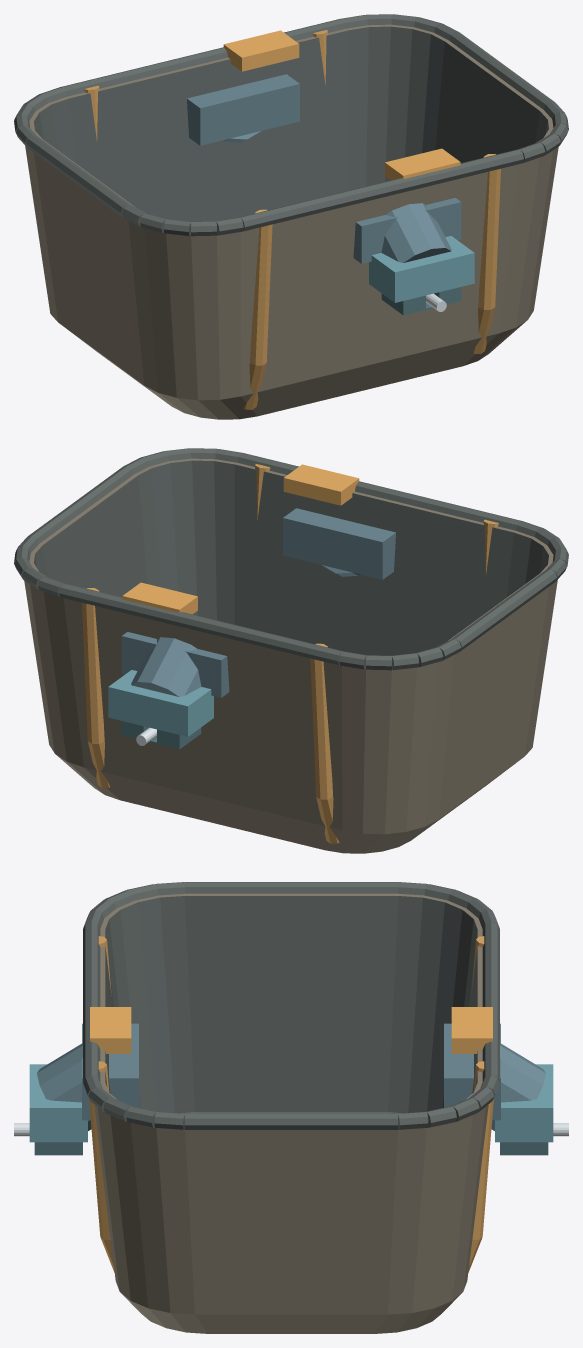
The picture shows the model from 3 angles, top to bottom: view 1: azimuth 30°, elevation 25°; view 2: azimuth 150°, elevation 25°; view 3: azimuth 270°, elevation 25°; orthographic projection. The views are drawn at different scales.
Visible parts, largest first — view 1: S15_Cabin, S15_Cabin_Mount_L; view 2: S15_Cabin, S15_Cabin_Mount_L; view 3: S15_Cabin, S15_Cabin_Mount_L.
Part boxes in pixels (<box>): S15_Cabin: <box>14,14,568,419</box>; S15_Cabin_Mount_L: <box>187,74,474,315</box>; S15_Cabin: <box>14,448,568,853</box>; S15_Cabin_Mount_L: <box>108,508,395,749</box>; S15_Cabin: <box>83,882,499,1333</box>; S15_Cabin_Mount_L: <box>14,1023,568,1155</box>.
Bounding box in the file's own units: 0.328 × 0.162 × 0.322.
